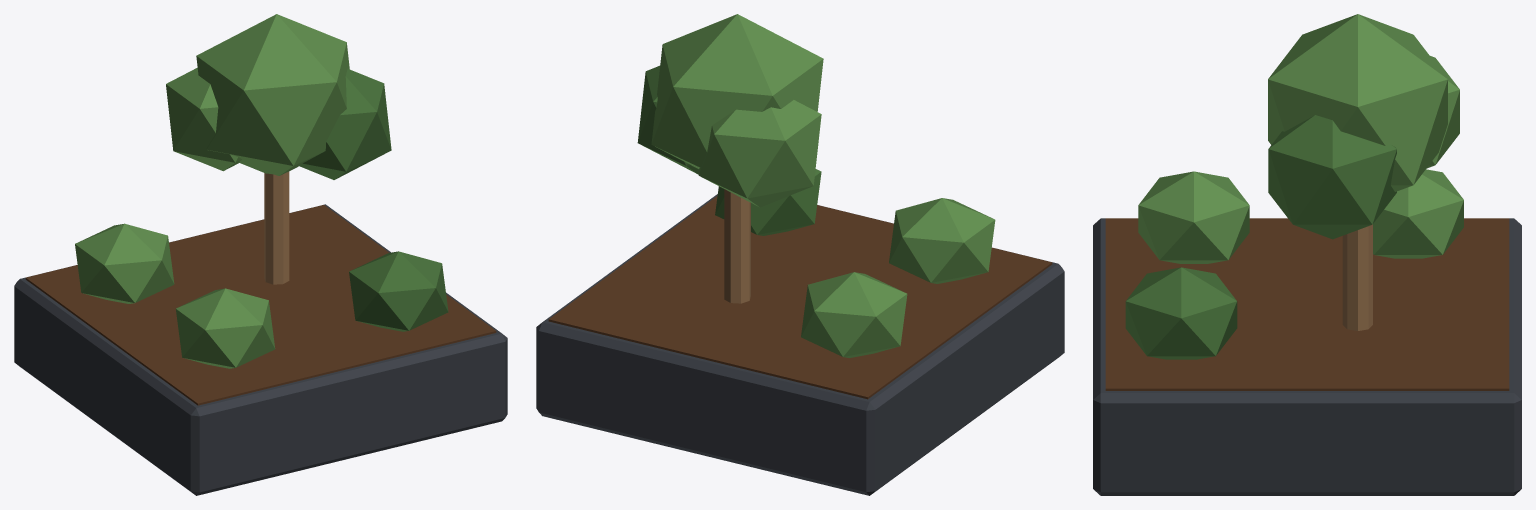
Rendered from planter_big.glb.
3 renders of one model, left to right at view 1: azimuth 30°, elevation 25°; view 2: azimuth 150°, elevation 25°; view 3: azimuth 270°, elevation 25°, orthographic. The views are drawn at different scales.
Parts seen in each view (by area): view 1: planter_big_mesh; view 2: planter_big_mesh; view 3: planter_big_mesh.
Boxes of the visible parts, bbox=[...] form: planter_big_mesh: bbox=[14, 14, 507, 495]; planter_big_mesh: bbox=[536, 14, 1064, 495]; planter_big_mesh: bbox=[1093, 14, 1521, 495].
Size of the model in its own units: 1.7 by 1.82 by 1.7.
